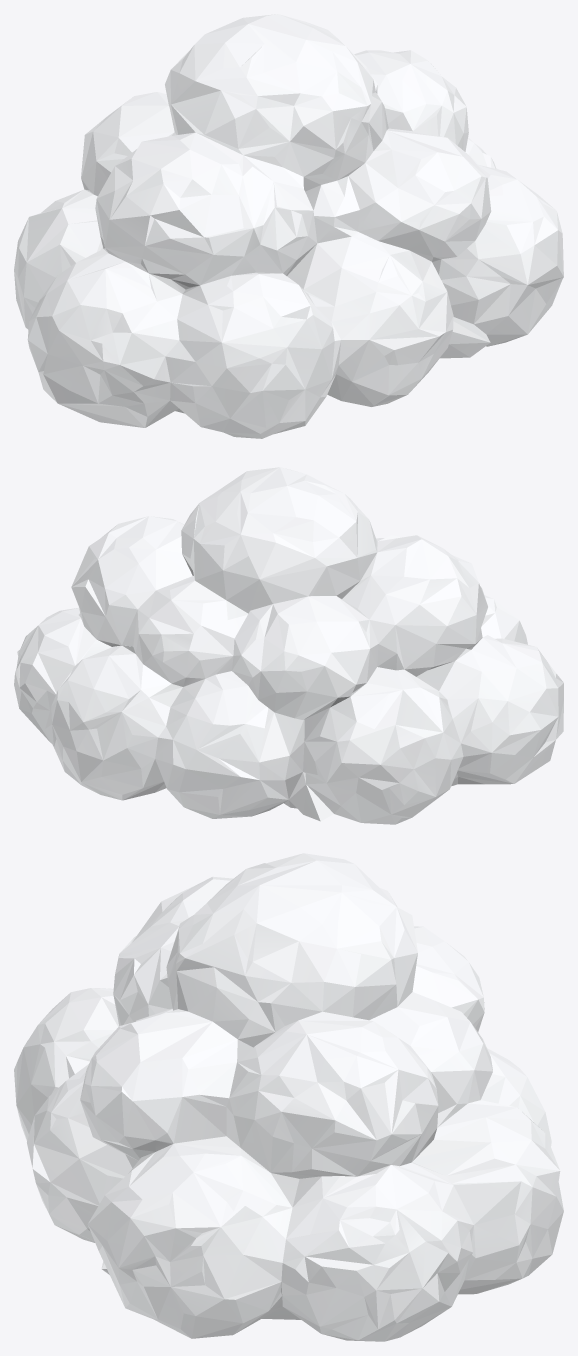
File: cloud_a.glb
3 renders of one model, top to bottom at view 1: azimuth 30°, elevation 25°; view 2: azimuth 150°, elevation 25°; view 3: azimuth 270°, elevation 25°, orthographic. The views are drawn at different scales.
Parts seen in each view (by area): view 1: cloud_a; view 2: cloud_a; view 3: cloud_a.
Part boxes in pixels (x1,y1,x2,y2): cloud_a: (14,14,563,438); cloud_a: (14,467,563,824); cloud_a: (14,853,563,1341).
Size of the model in its own units: 0.9796 by 0.5779 by 0.781.
Materials: 1 (1 with a texture image).
